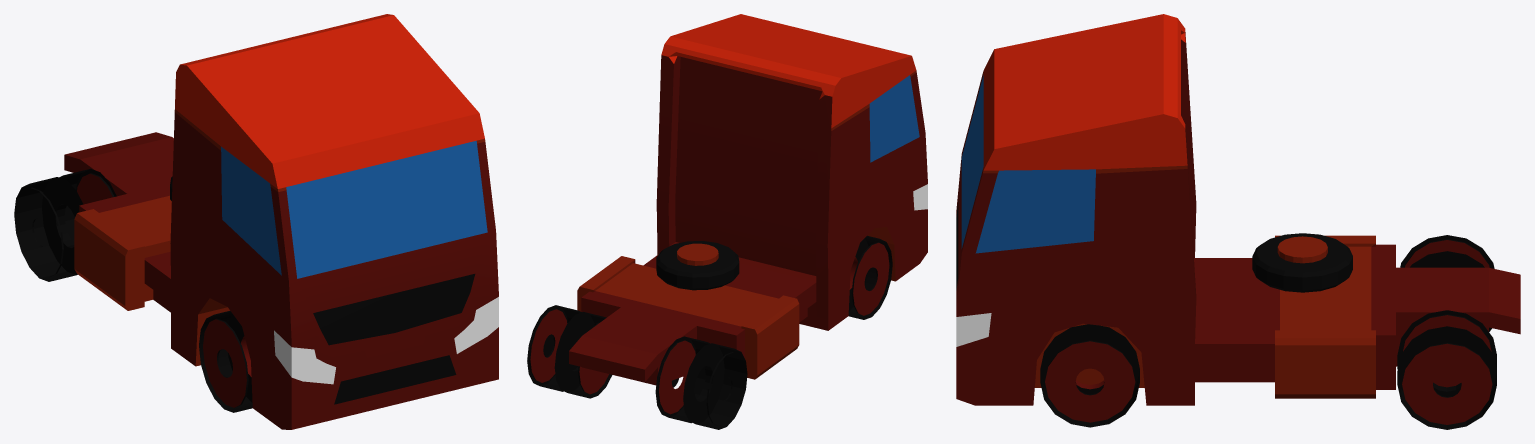
The model's file is bigRigCabin.fbx.
3 renders of one model, left to right at view 1: azimuth 30°, elevation 25°; view 2: azimuth 150°, elevation 25°; view 3: azimuth 270°, elevation 25°, orthographic. The views are drawn at different scales.
Visible parts, largest first — view 1: convexHull_hidden, chassis, convexHull1_hidden, rr_tire, fr_tire; view 2: convexHull_hidden, chassis, convexHull1_hidden, rr_tire, rl_tire, fr_tire; view 3: chassis, convexHull_hidden, convexHull1_hidden, rl_tire, fl_tire, rr_tire.
Part boxes in pixels (x1,y1,x2,y2): convexHull_hidden: (170, 14, 498, 429); chassis: (64, 64, 498, 428); convexHull1_hidden: (64, 132, 173, 308); rr_tire: (14, 168, 116, 281); fr_tire: (199, 311, 252, 412); convexHull_hidden: (656, 14, 927, 323); chassis: (569, 52, 927, 385); convexHull1_hidden: (569, 254, 816, 387); rr_tire: (655, 336, 747, 429); rl_tire: (527, 305, 612, 398); fr_tire: (848, 235, 892, 319); chassis: (956, 30, 1497, 405); convexHull_hidden: (956, 14, 1196, 405); convexHull1_hidden: (1195, 235, 1520, 394); rl_tire: (1397, 310, 1496, 429); fl_tire: (1040, 324, 1139, 427); rr_tire: (1400, 235, 1494, 331).
Size of the model in its own units: 150 by 340 by 209.
